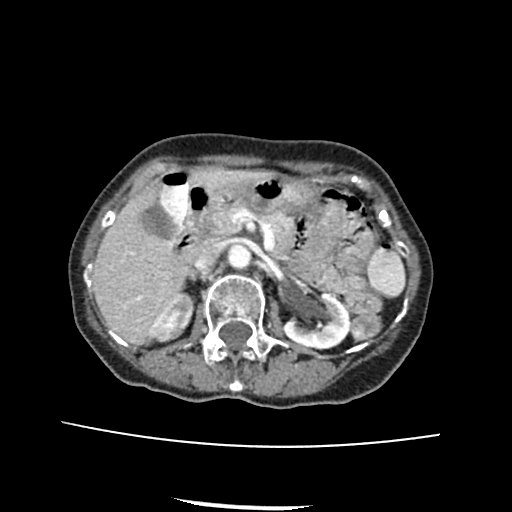aorta: (226, 242, 250, 269)
